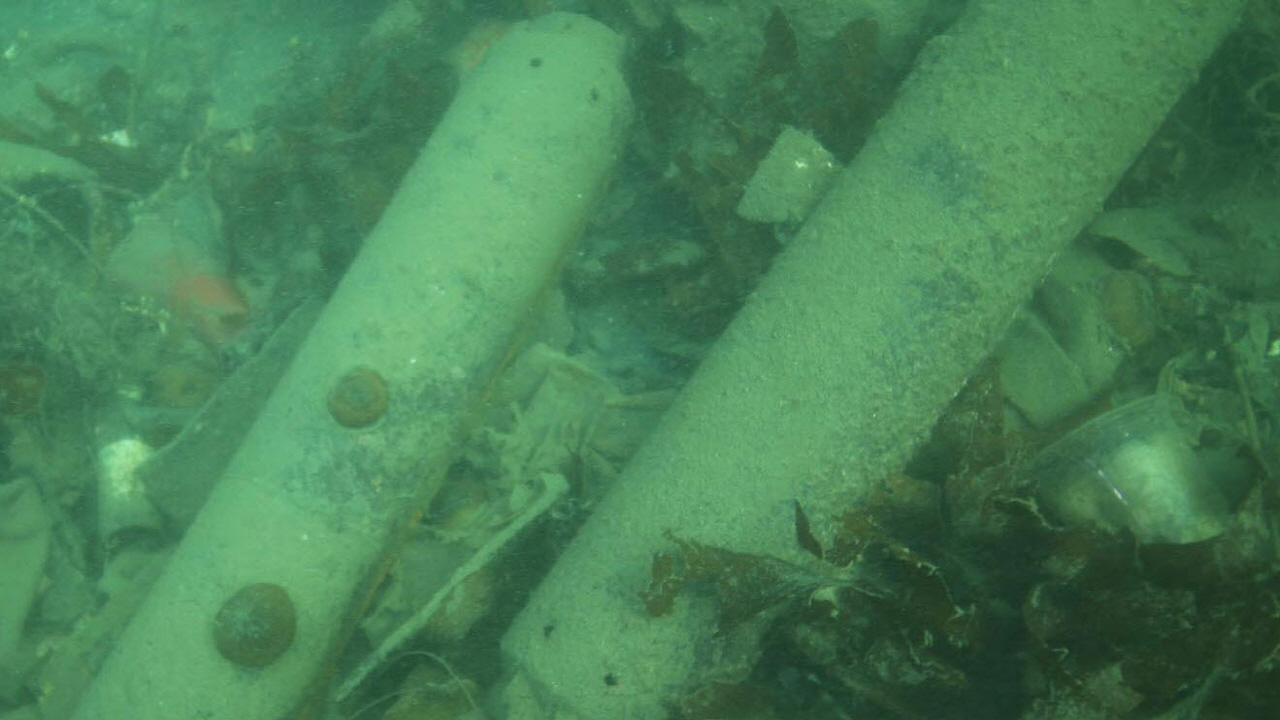eel fish trap: (493, 0, 1245, 720), (65, 8, 635, 720)
